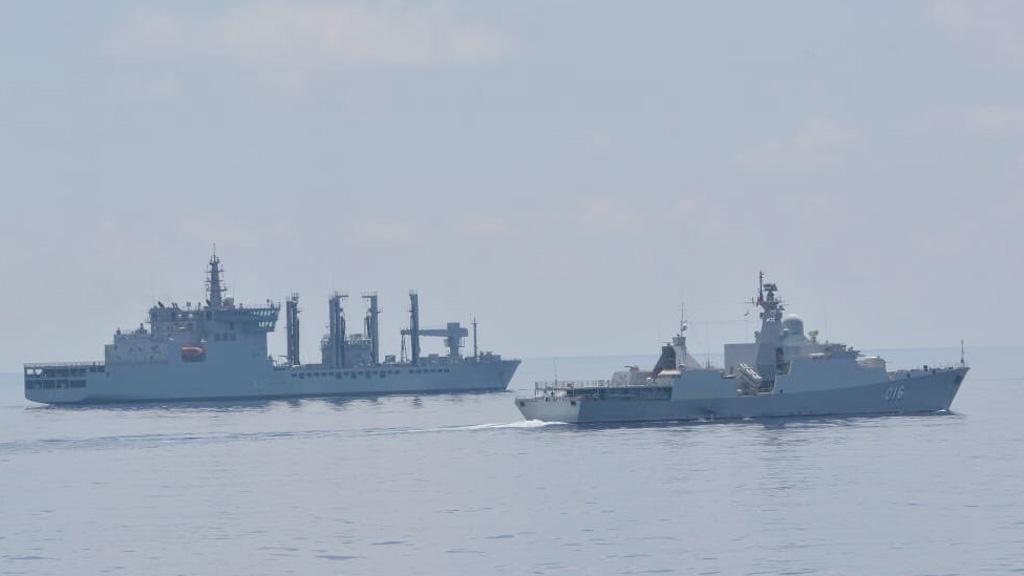MIL_Ship: (31, 242, 524, 408), (511, 268, 976, 424)
